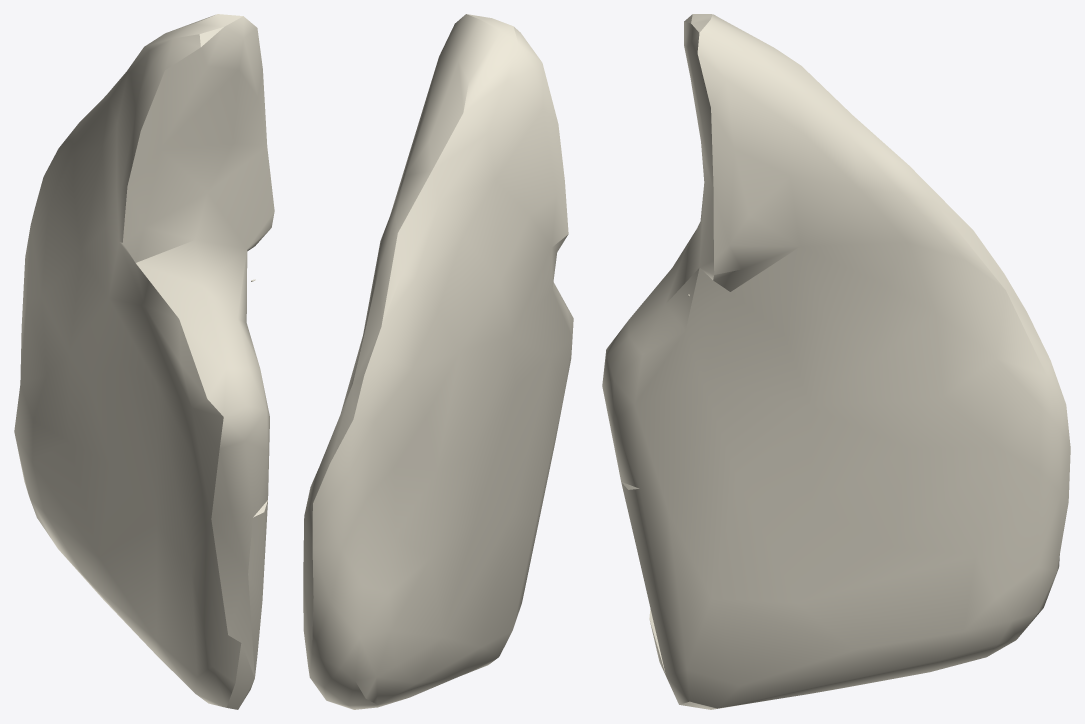
The model's file is fma57415_mm2042.glb.
The picture shows the model from 3 angles, left to right: view 1: azimuth 30°, elevation 25°; view 2: azimuth 150°, elevation 25°; view 3: azimuth 270°, elevation 25°; orthographic projection. The views are drawn at different scales.
Parts seen in each view (by area): view 1: FMA57415_MM2042; view 2: FMA57415_MM2042; view 3: FMA57415_MM2042.
Part boxes in pixels (bbox=[...]): FMA57415_MM2042: bbox=[14, 14, 274, 709]; FMA57415_MM2042: bbox=[303, 14, 573, 709]; FMA57415_MM2042: bbox=[602, 14, 1070, 709].
Size of the model in its own units: 0.00521 by 0.0224 by 0.0138.
